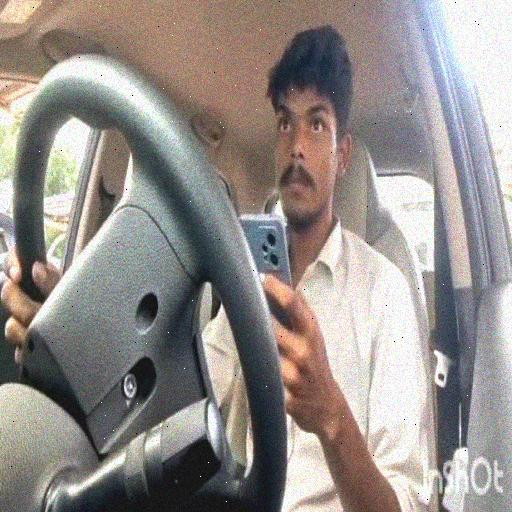Texting_on_phone: (234, 22, 424, 473)
